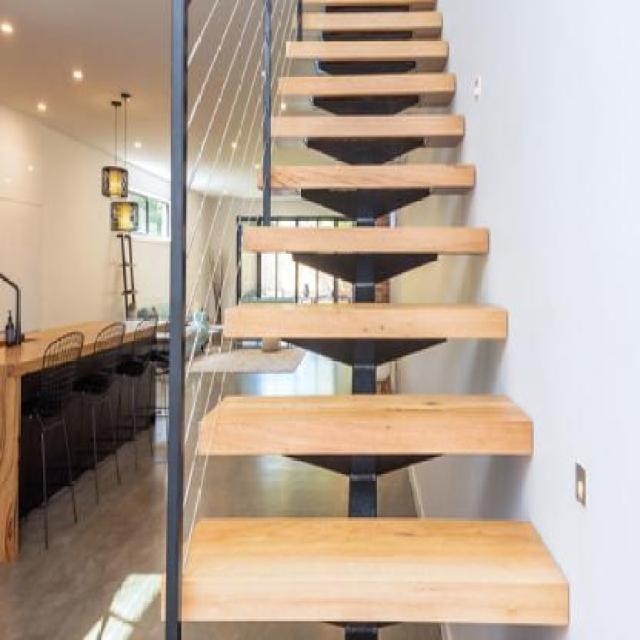stair: (127, 0, 578, 637)
